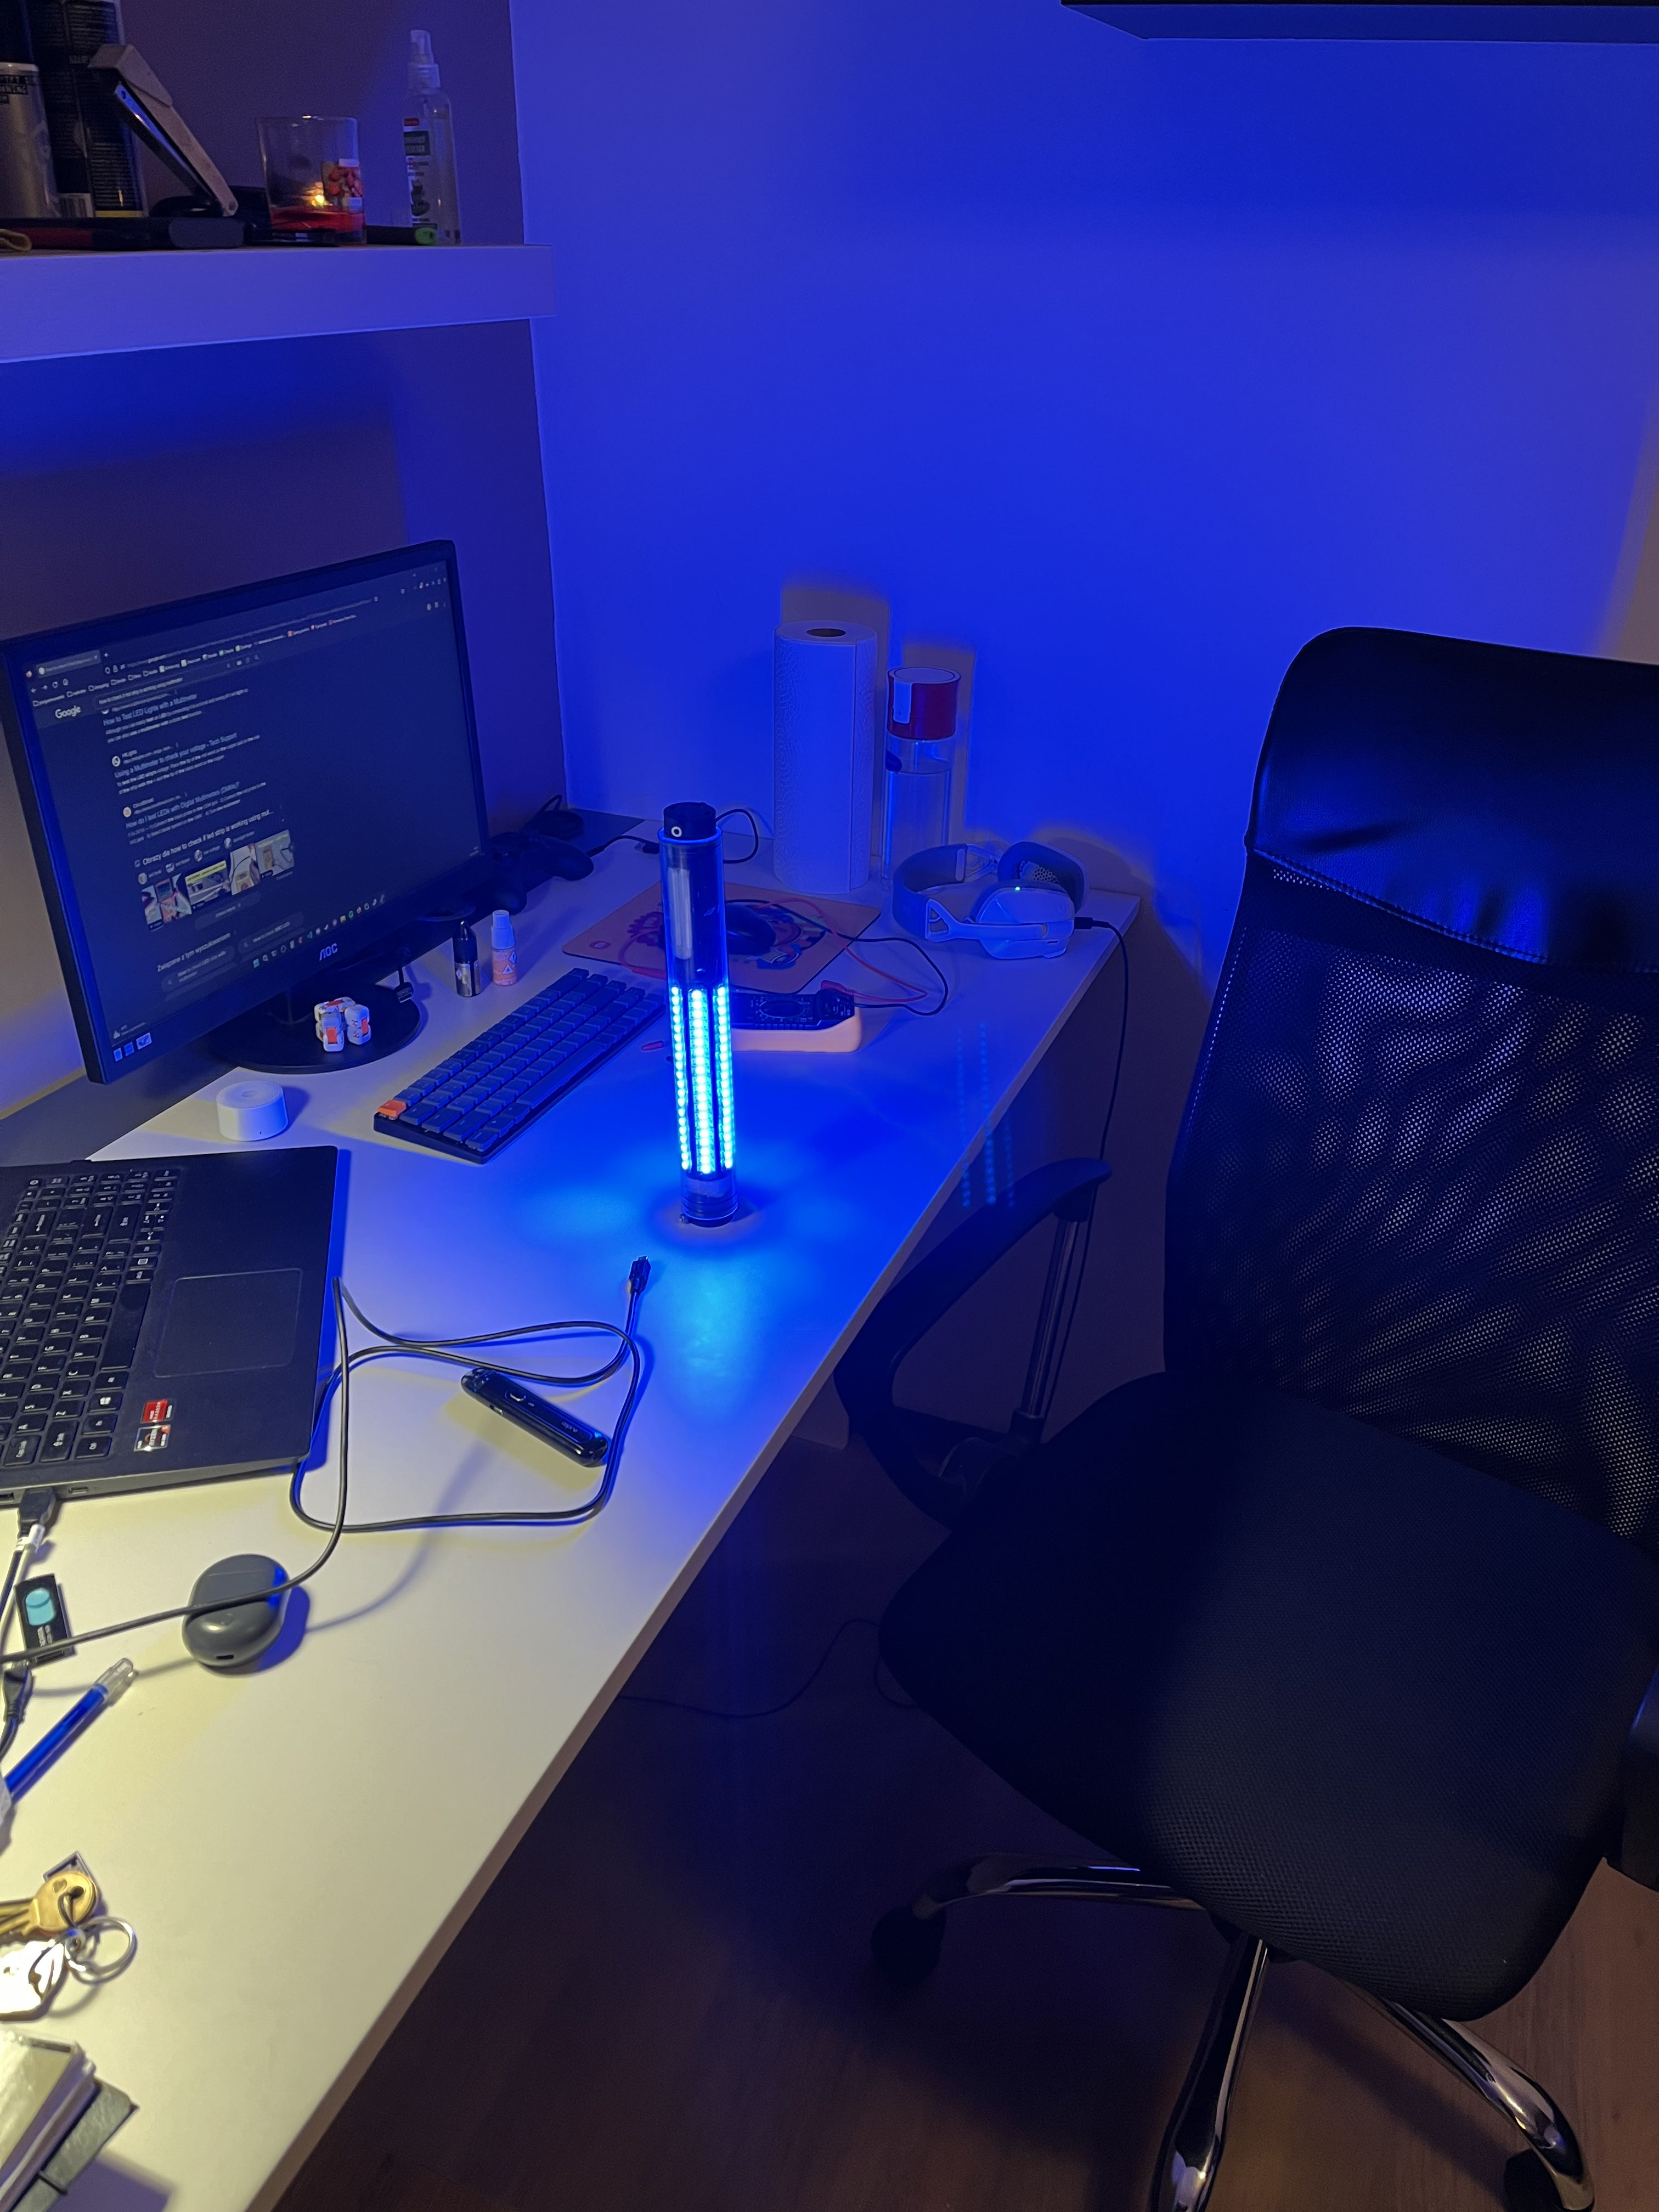blue: (662, 829, 749, 1223)
